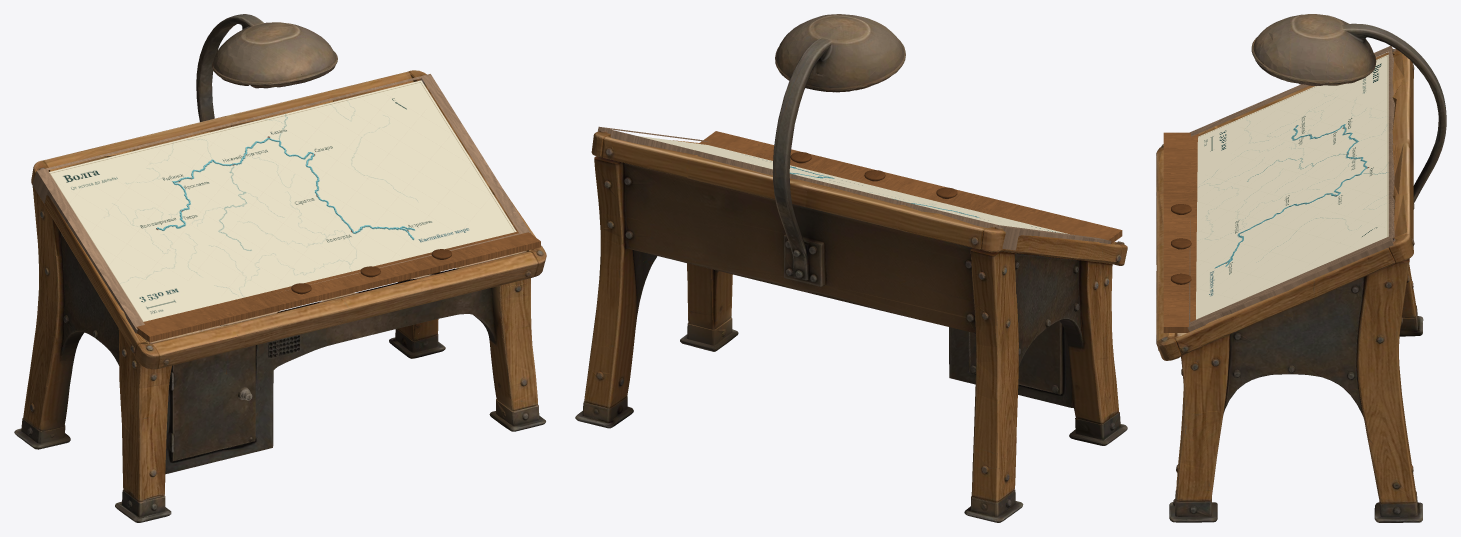
The model's file is soundmap.glb.
3 renders of one model, left to right at view 1: azimuth 30°, elevation 25°; view 2: azimuth 150°, elevation 25°; view 3: azimuth 270°, elevation 25°, orthographic. The views are drawn at different scales.
Visible parts, largest first — view 1: Hi3D source frame, SM04 registered geographic face, SM-11 horizontal oak-faced bored rail, SM03 narrow oak retaining lip, SM04 complete Volga tactile inlay; view 2: Hi3D source frame, SM-11 horizontal oak-faced bored rail, SM03 narrow oak retaining lip, SM04 registered geographic face; view 3: Hi3D source frame, SM04 registered geographic face, SM-11 horizontal oak-faced bored rail, SM03 narrow oak retaining lip, SM04 complete Volga tactile inlay.
Part boxes in pixels (left/top/right/bottom): Hi3D source frame: left=14, top=14, right=546, bottom=522; SM04 registered geographic face: left=49, top=80, right=516, bottom=321; SM-11 horizontal oak-faced bored rail: left=136, top=230, right=540, bottom=342; SM03 narrow oak retaining lip: left=34, top=74, right=530, bottom=333; SM04 complete Volga tactile inlay: left=156, top=137, right=414, bottom=239; Hi3D source frame: left=575, top=14, right=1127, bottom=522; SM-11 horizontal oak-faced bored rail: left=699, top=131, right=1122, bottom=243; SM03 narrow oak retaining lip: left=597, top=126, right=1111, bottom=243; SM04 registered geographic face: left=638, top=136, right=1069, bottom=234; Hi3D source frame: left=1156, top=14, right=1446, bottom=522; SM04 registered geographic face: left=1196, top=54, right=1388, bottom=319; SM-11 horizontal oak-faced bored rail: left=1163, top=132, right=1198, bottom=332; SM03 narrow oak retaining lip: left=1187, top=46, right=1394, bottom=331; SM04 complete Volga tactile inlay: left=1215, top=124, right=1367, bottom=267.
Size of the model in its own units: 1.92 by 1.75 by 1.15.
8 materials, 5 textured.
